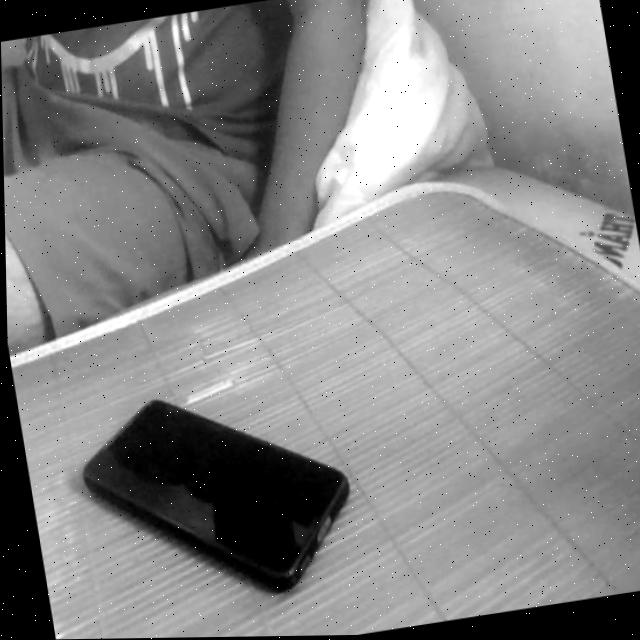phone: (58, 333, 382, 639)
